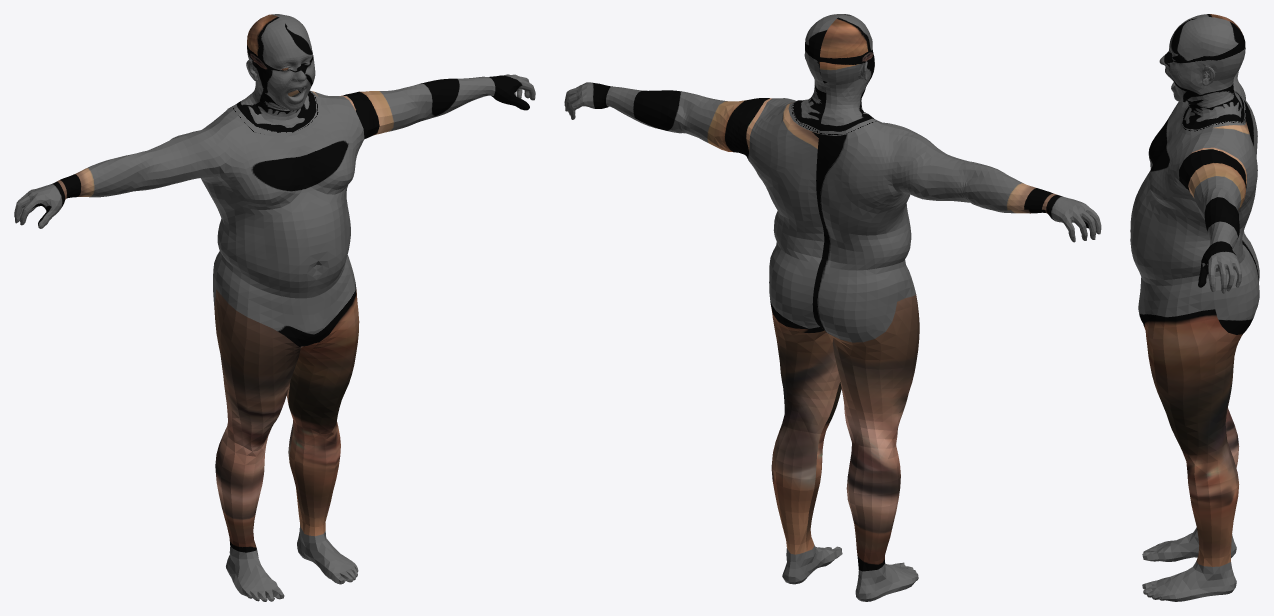
The model's file is exp_7.obj.
3 views of the same model, side by side, from view 1: azimuth 30°, elevation 25°; view 2: azimuth 150°, elevation 25°; view 3: azimuth 270°, elevation 25° (orthographic). The views are drawn at different scales.
Bounding box in the file's own units: 1.63 × 1.66 × 0.3482.
Materials: 1 (1 with a texture image).
